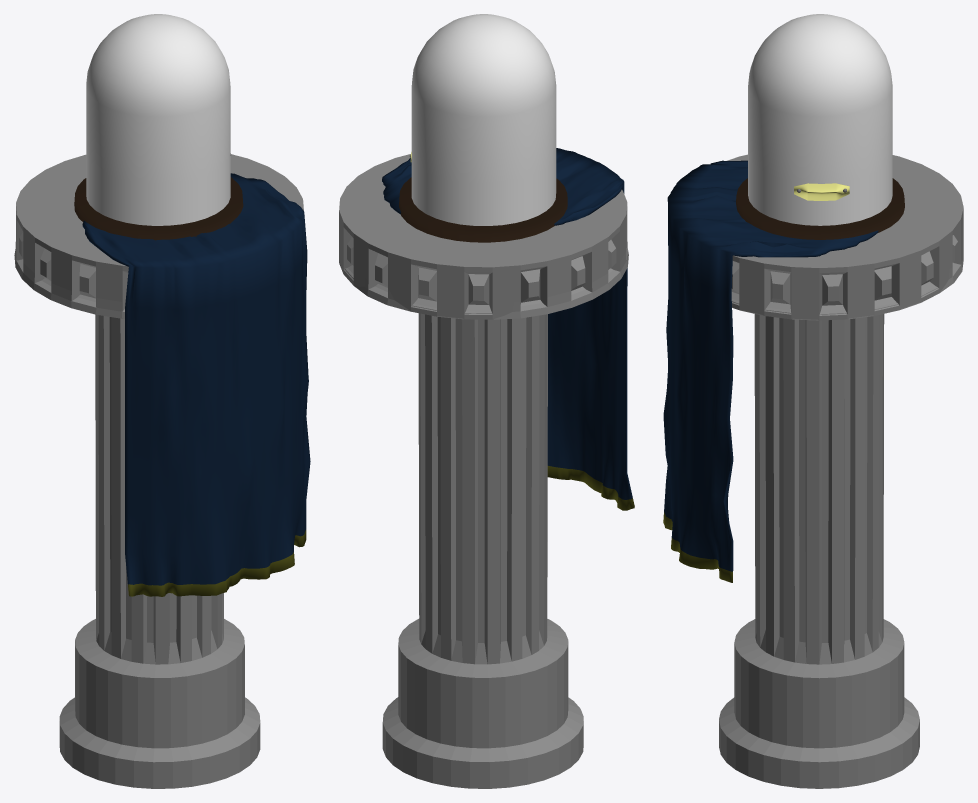
File: rose.fbx
3 views of the same model, side by side, from view 1: azimuth 30°, elevation 25°; view 2: azimuth 150°, elevation 25°; view 3: azimuth 270°, elevation 25° (orthographic).
Parts seen in each view (by area): view 1: Cylinder.003, Cylinder.001, Cylinder; view 2: Cylinder.001, Cylinder, Cylinder.003; view 3: Cylinder.001, Cylinder, Cylinder.003, Cylinder.002.
Part boxes in pixels (<box>): Cylinder.003: <box>82,173,310,596</box>; Cylinder.001: <box>14,154,303,788</box>; Cylinder: <box>74,14,243,240</box>; Cylinder.001: <box>339,154,628,788</box>; Cylinder: <box>399,14,567,242</box>; Cylinder.003: <box>382,148,634,510</box>; Cylinder.001: <box>719,154,963,788</box>; Cylinder: <box>736,14,904,239</box>; Cylinder.003: <box>663,160,878,582</box>; Cylinder.002: <box>794,183,849,200</box>.
Bounding box in the file's own units: 959 × 2646 × 993.
